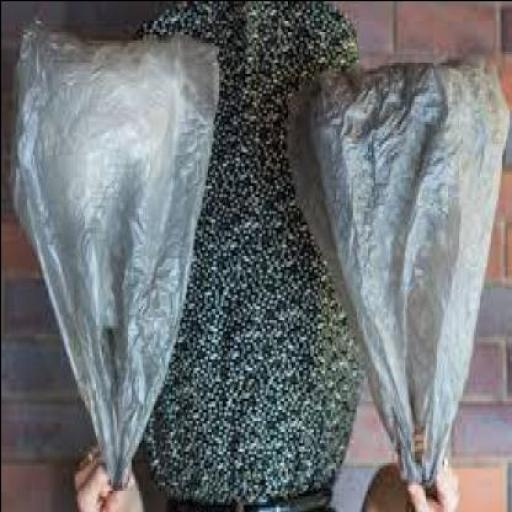plastic: (9, 25, 215, 493), (282, 58, 506, 487)
